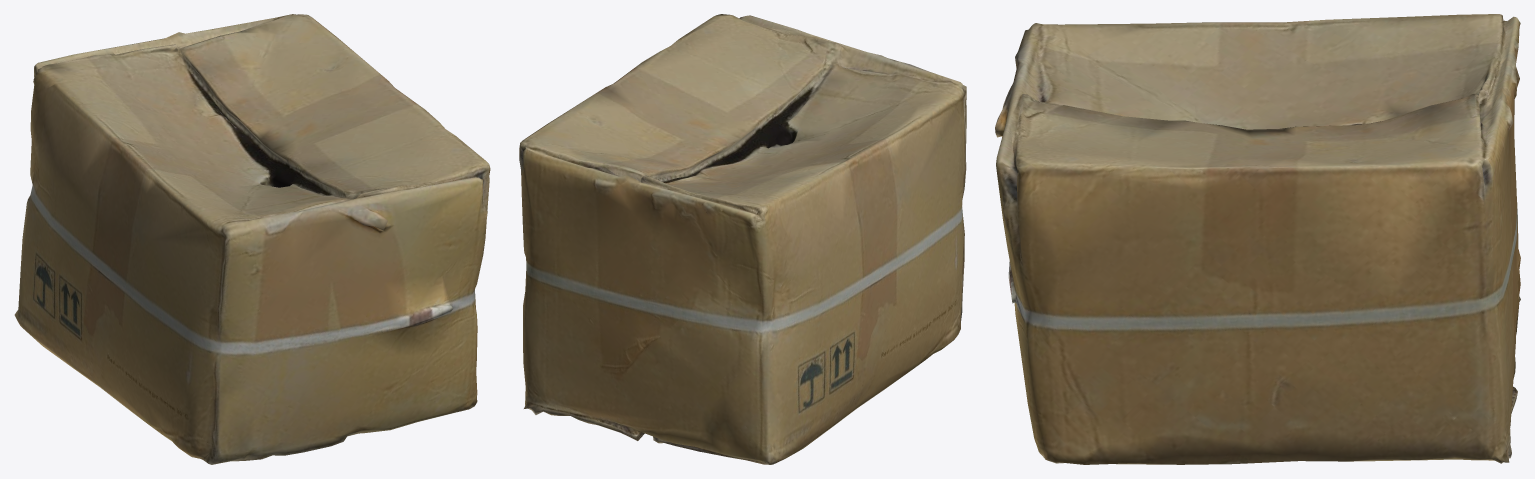
The model's file is cardboard_box.glb.
3 renders of one model, left to right at view 1: azimuth 30°, elevation 25°; view 2: azimuth 150°, elevation 25°; view 3: azimuth 270°, elevation 25°, orthographic. The views are drawn at different scales.
Parts seen in each view (by area): view 1: cardboard_box; view 2: cardboard_box; view 3: cardboard_box.
Part boxes in pixels (x1,y1,x2,y2): cardboard_box: [14, 14, 490, 464]; cardboard_box: [519, 14, 966, 464]; cardboard_box: [995, 14, 1520, 464].
Bounding box in the file's own units: 0.3867 × 0.3418 × 0.5159.
1 material, 1 textured.
